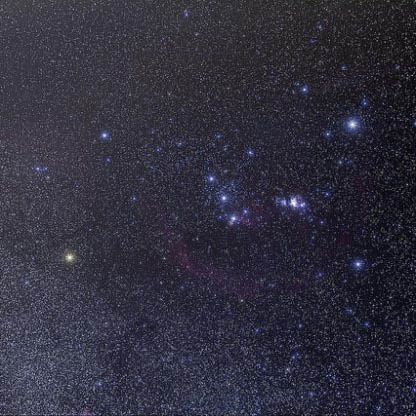Orion: (348, 254, 373, 279), (225, 211, 248, 235), (63, 250, 86, 271), (93, 125, 114, 145), (340, 115, 359, 135), (213, 190, 234, 205), (203, 167, 218, 183)
